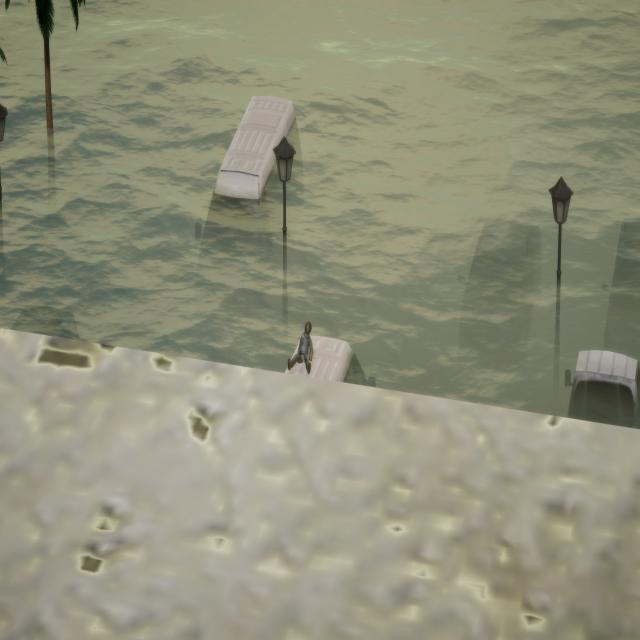Human: (282, 320, 317, 380)
